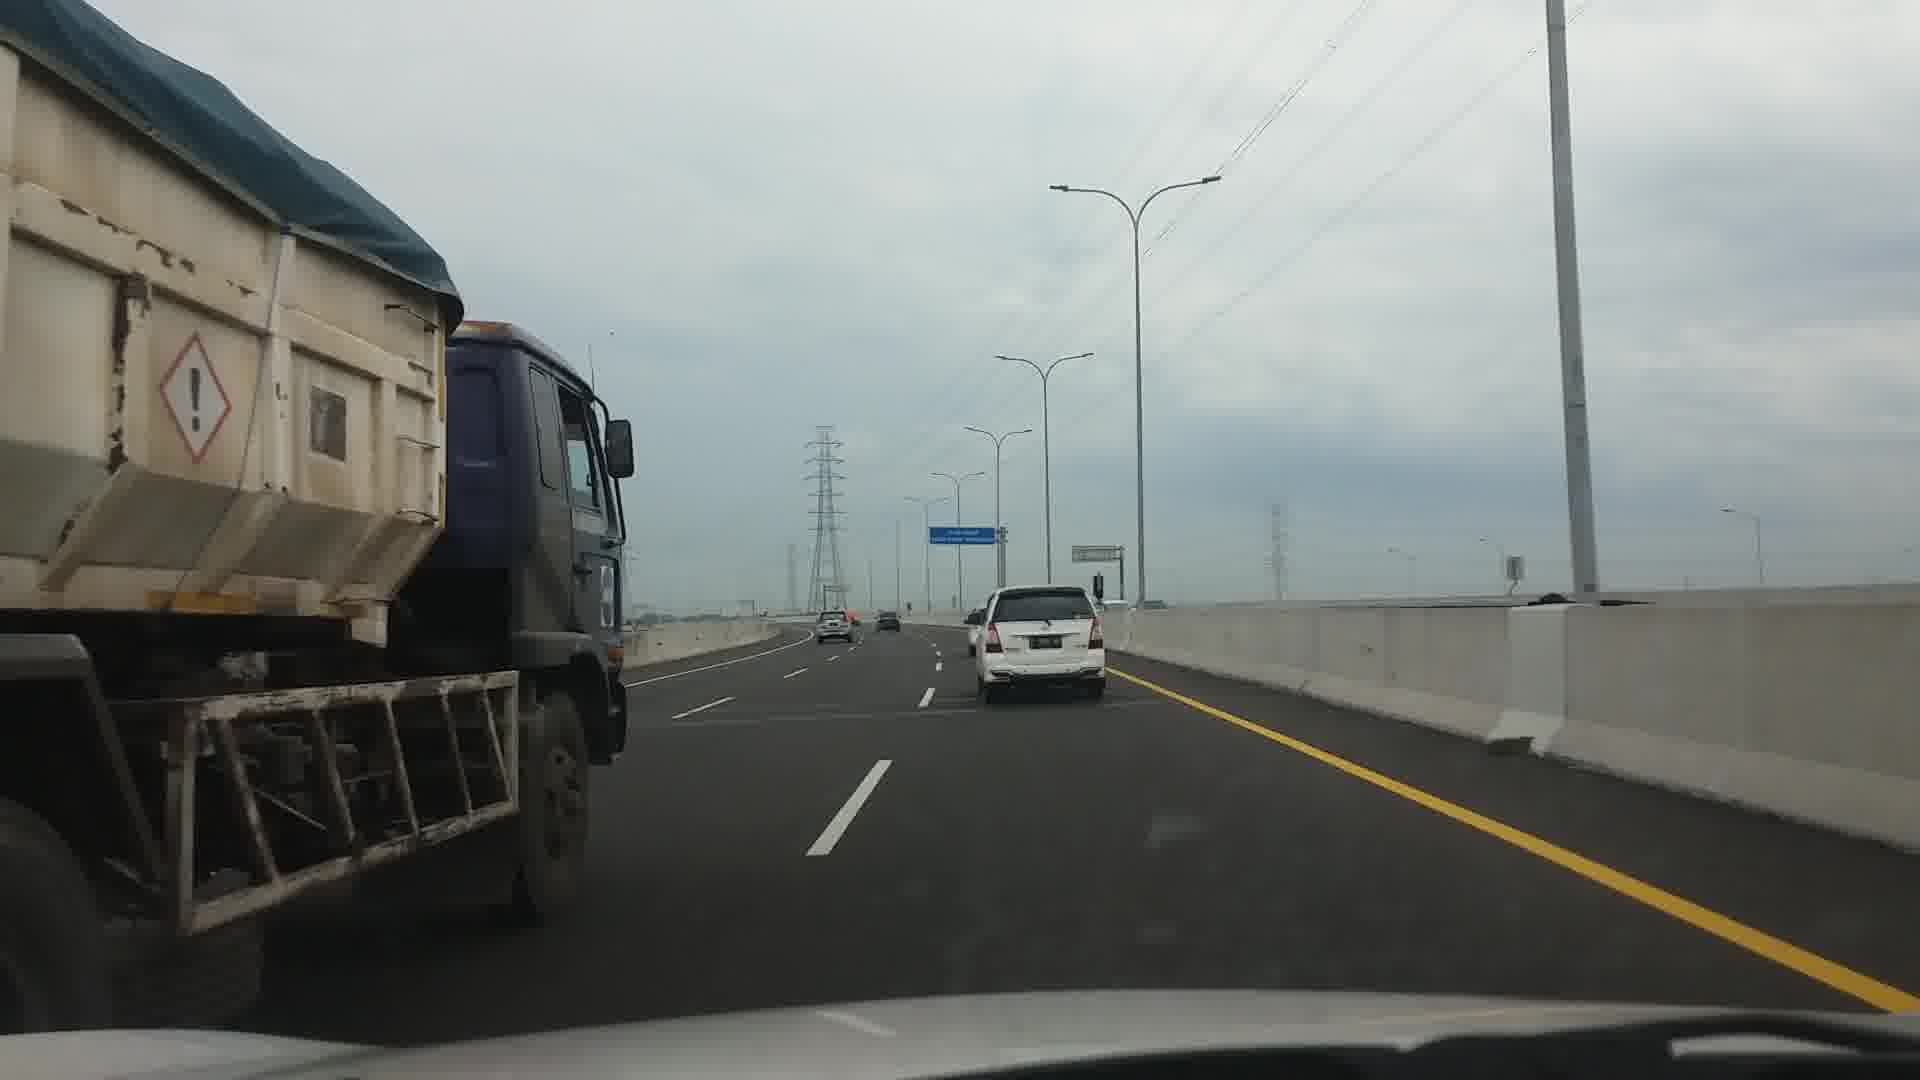plate_positive: (1029, 636, 1063, 649)
